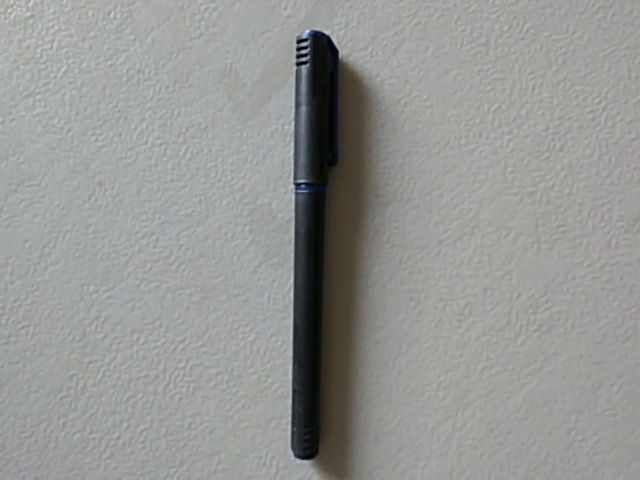Pen: (253, 15, 386, 476)
